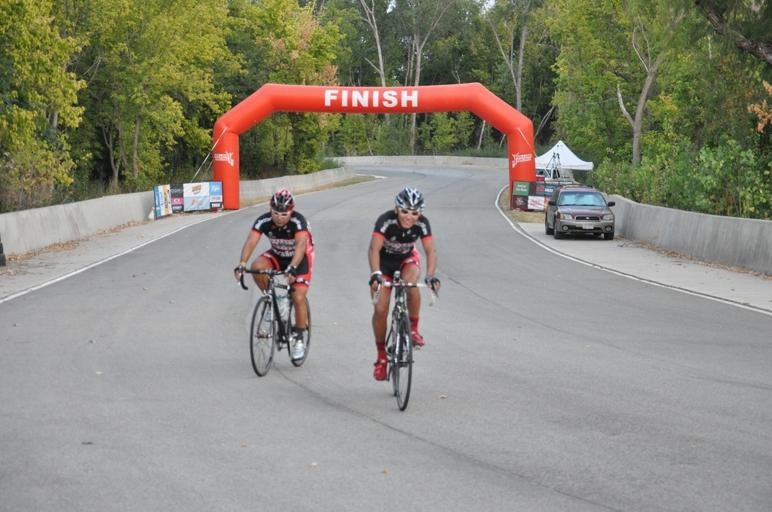non-vehicle: (365, 271, 436, 412), (233, 265, 312, 376)
